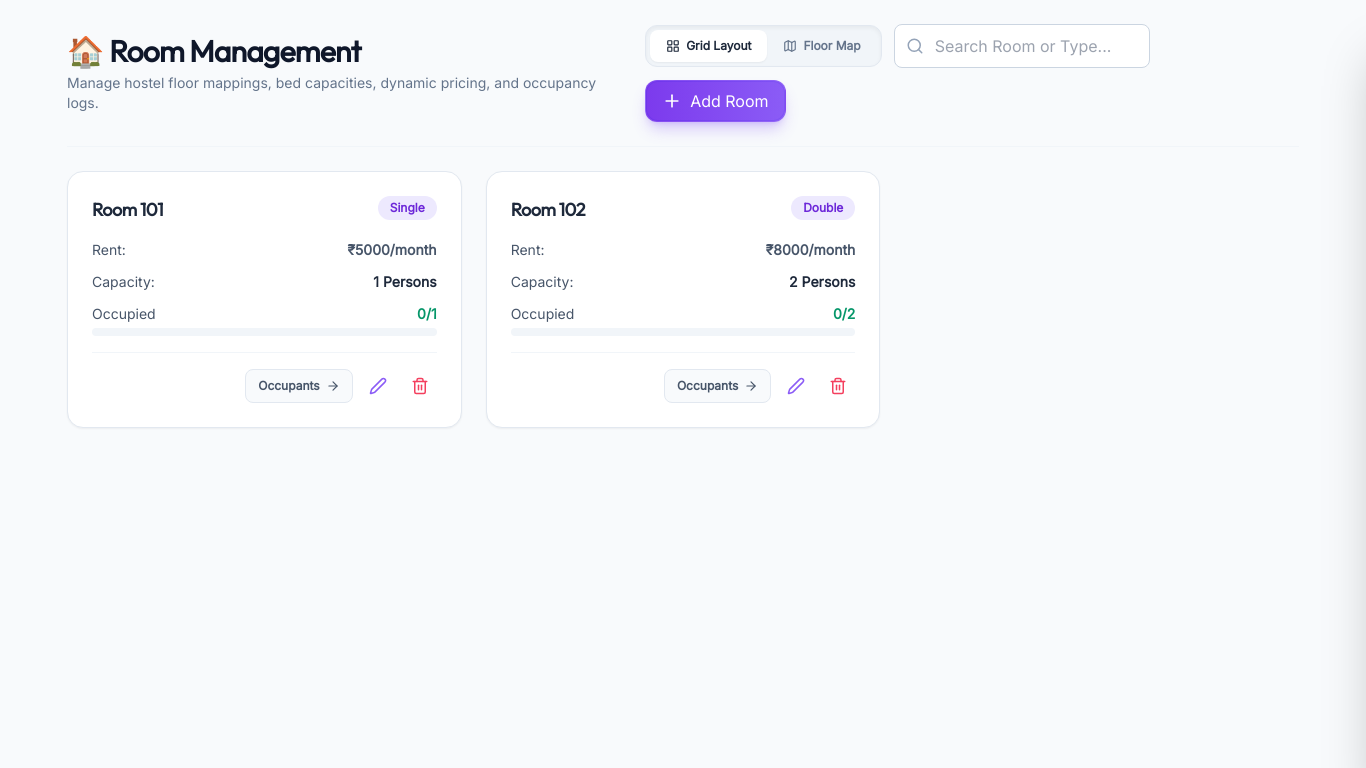
Test case: Owner Rooms Component › handles delete room
Expected: the heading "Room 101" is shown, [92, 196, 163, 224]
Click the 6th button at (420, 386), box [403, 369, 437, 403]
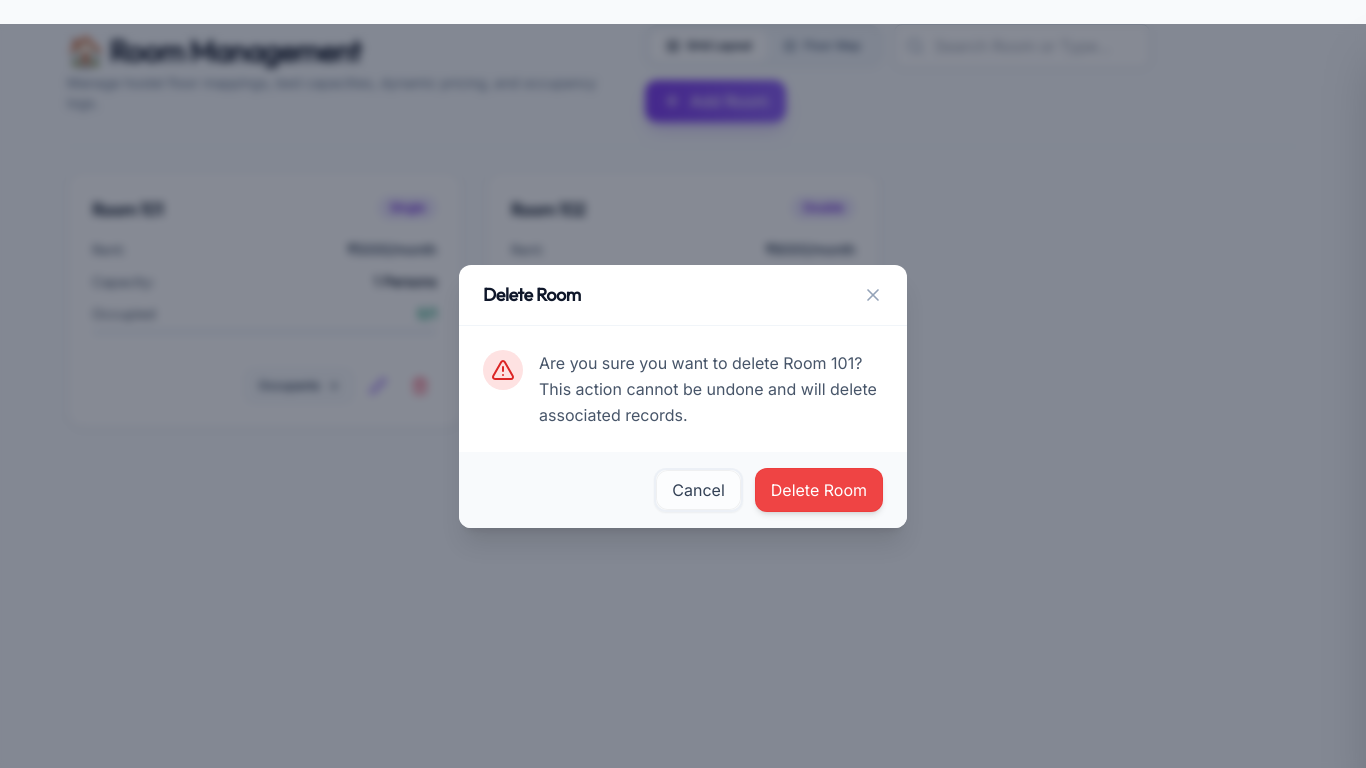
Expected: the button "Delete Room" is shown
// Wait for custom ConfirmDialog and click "Delete Room"
Click the button "Delete Room" at (819, 490), box [755, 468, 883, 512]
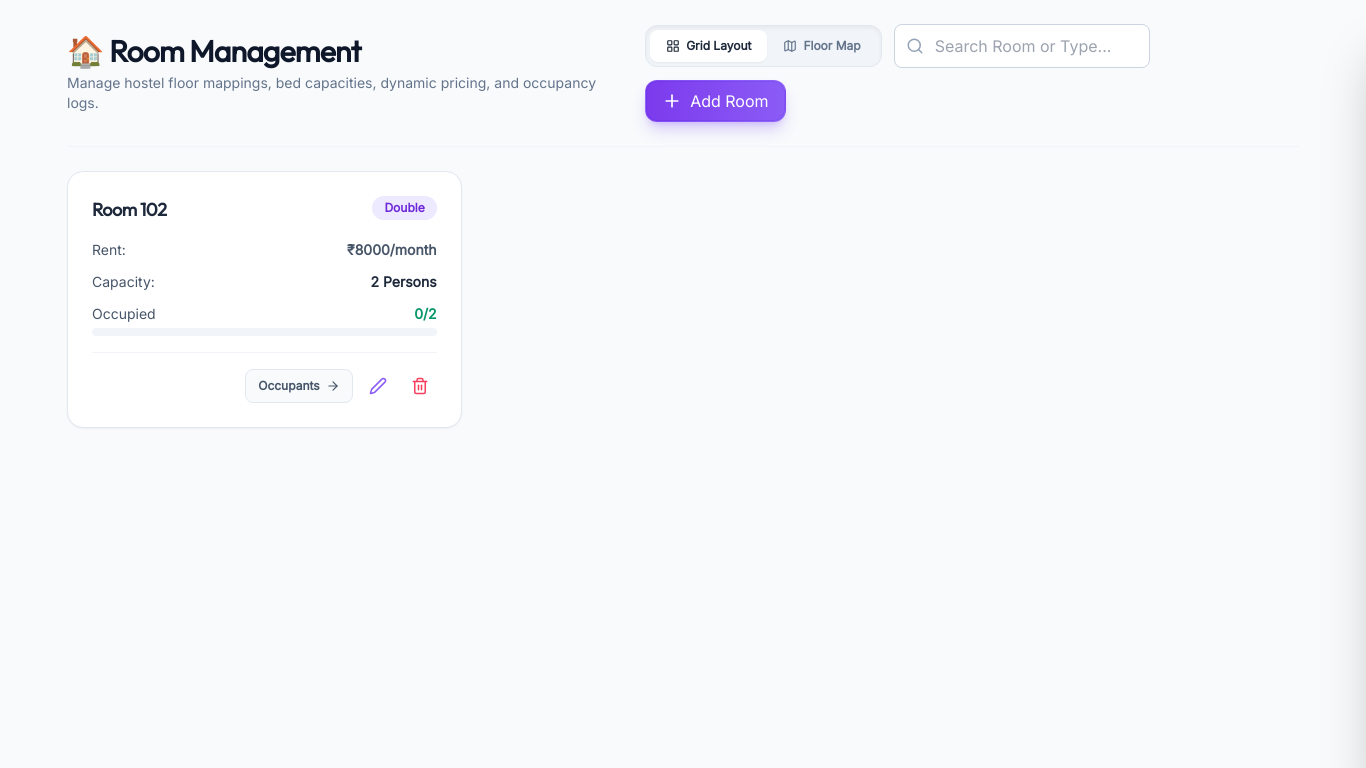
Expected: the heading "Room 101" is gone
